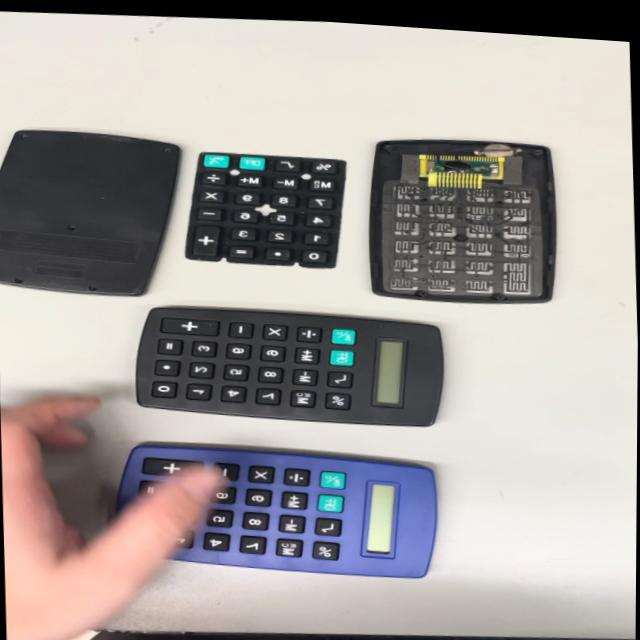back_cover: (0, 120, 190, 309)
calculator: (78, 436, 455, 591), (128, 292, 451, 439)
front_panel: (364, 121, 565, 314)
number_pad: (183, 143, 355, 271)
